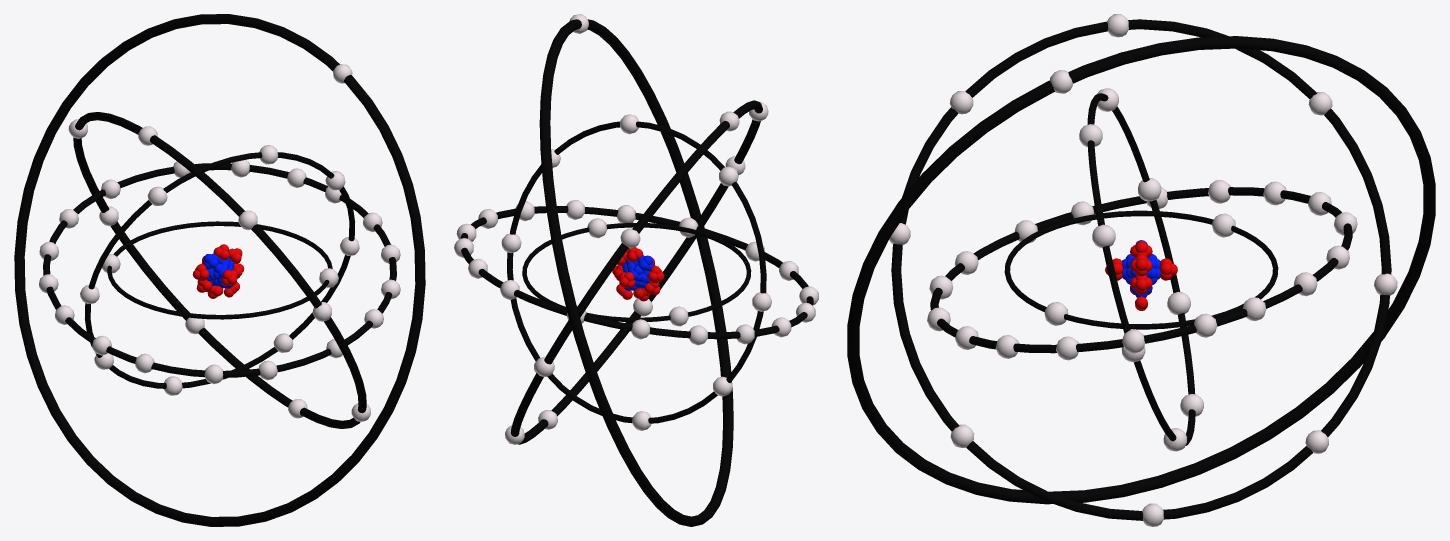
Rendered from 43 Tecnecio.fbx.
The picture shows the model from 3 angles, left to right: view 1: azimuth 30°, elevation 25°; view 2: azimuth 150°, elevation 25°; view 3: azimuth 270°, elevation 25°; orthographic projection. The views are drawn at different scales.
Parts seen in each view (by area): view 1: Orbita.005, Orbita.004, Orbita.003, Orbita.002, Orbita.001, Sphere.008; view 2: Orbita.005, Orbita.004, Orbita.002, Orbita.003, Orbita.001, Sphere.008; view 3: Orbita.005, Orbita.004, Orbita.003, Orbita.002, Orbita.001, Sphere.008.
Part boxes in pixels (bbox=[...]): Orbita.005: bbox=[14, 14, 425, 526]; Orbita.004: bbox=[73, 112, 366, 428]; Orbita.003: bbox=[43, 163, 396, 377]; Orbita.002: bbox=[85, 152, 354, 388]; Orbita.001: bbox=[107, 221, 332, 319]; Sphere.008: bbox=[192, 244, 244, 298]; Orbita.005: bbox=[539, 19, 733, 526]; Orbita.004: bbox=[510, 100, 762, 444]; Orbita.002: bbox=[507, 121, 766, 423]; Orbita.003: bbox=[460, 206, 813, 339]; Orbita.001: bbox=[522, 222, 751, 322]; Sphere.008: bbox=[612, 247, 664, 301]; Orbita.005: bbox=[847, 36, 1435, 504]; Orbita.004: bbox=[891, 19, 1391, 520]; Orbita.003: bbox=[930, 187, 1352, 353]; Orbita.002: bbox=[1087, 93, 1195, 445]; Orbita.001: bbox=[1004, 210, 1278, 329]; Sphere.008: bbox=[1105, 240, 1177, 310].
Bounding box in the file's own units: 16.65 × 12.49 × 16.71.
